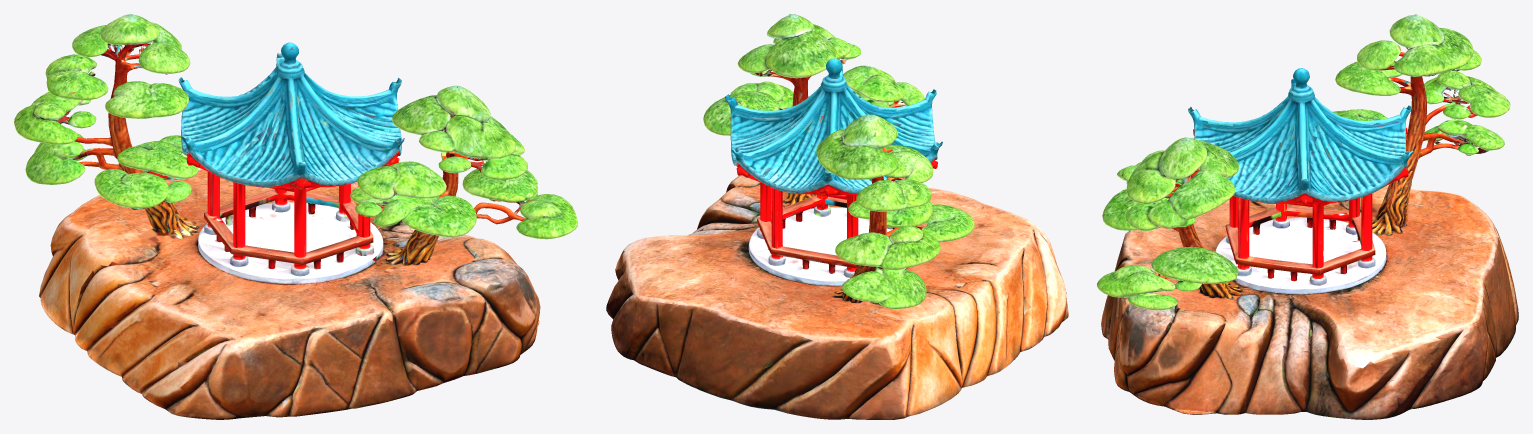
The model's file is ql_pavilion.glb.
3 renders of one model, left to right at view 1: azimuth 30°, elevation 25°; view 2: azimuth 150°, elevation 25°; view 3: azimuth 270°, elevation 25°, orthographic. The views are drawn at different scales.
Parts seen in each view (by area): view 1: ql_pavilion; view 2: ql_pavilion; view 3: ql_pavilion.
Boxes of the visible parts, x1=… form: ql_pavilion: x1=14, y1=14, x2=577, y2=419; ql_pavilion: x1=606, y1=14, x2=1068, y2=419; ql_pavilion: x1=1097, y1=14, x2=1518, y2=419.
Bounding box in the file's own units: 9.98 × 7 × 9.96.
Materials: 1 (1 with a texture image).
